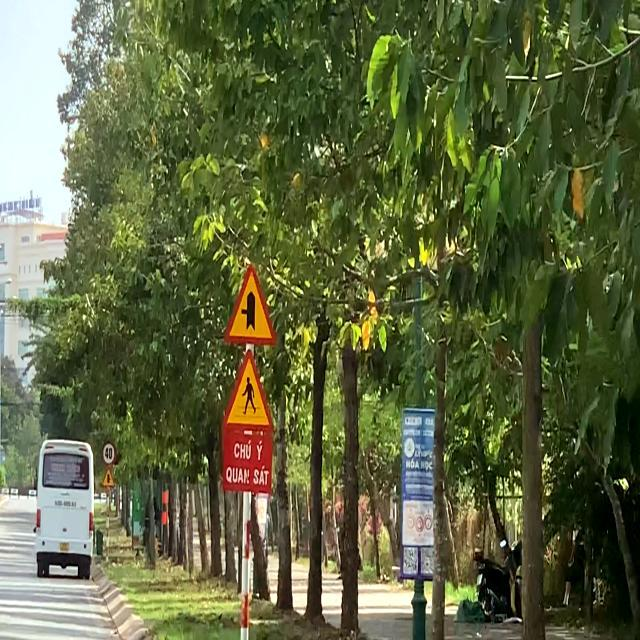Giao nhau voi duong khong uu tien ben phai: (102, 466, 115, 488)
Giao nhau voi duong khong uu tien ben trai: (224, 260, 277, 346)
Nguoi di bo cat ngang: (223, 348, 274, 433)
Toc do toi da cho phep: (102, 441, 116, 466)
